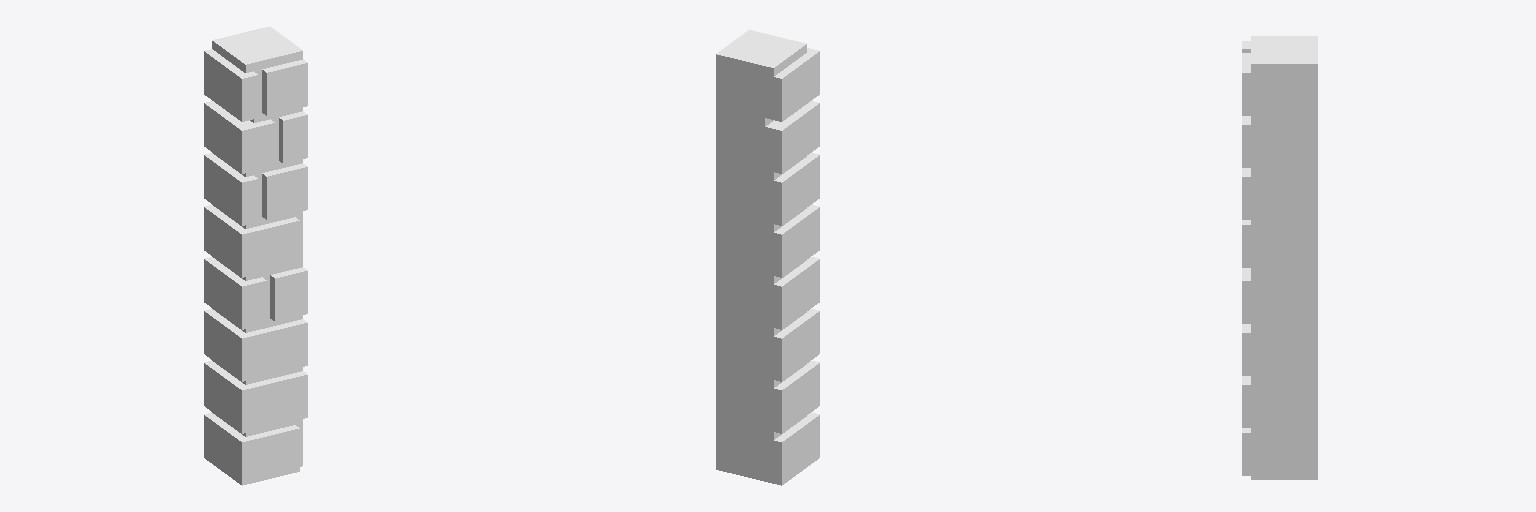
The model's file is stoneWallCorner-0.obj.
3 renders of one model, left to right at view 1: azimuth 30°, elevation 25°; view 2: azimuth 150°, elevation 25°; view 3: azimuth 270°, elevation 25°, orthographic.
Visible parts, largest first — view 1: object 1; view 2: object 1; view 3: object 1.
Part boxes in pixels (left/top/right/bottom): object 1: left=204, top=26, right=307, bottom=485; object 1: left=716, top=30, right=819, bottom=485; object 1: left=1242, top=36, right=1317, bottom=479.
Bounding box in the file's own units: 0.8 × 4.8 × 0.8.